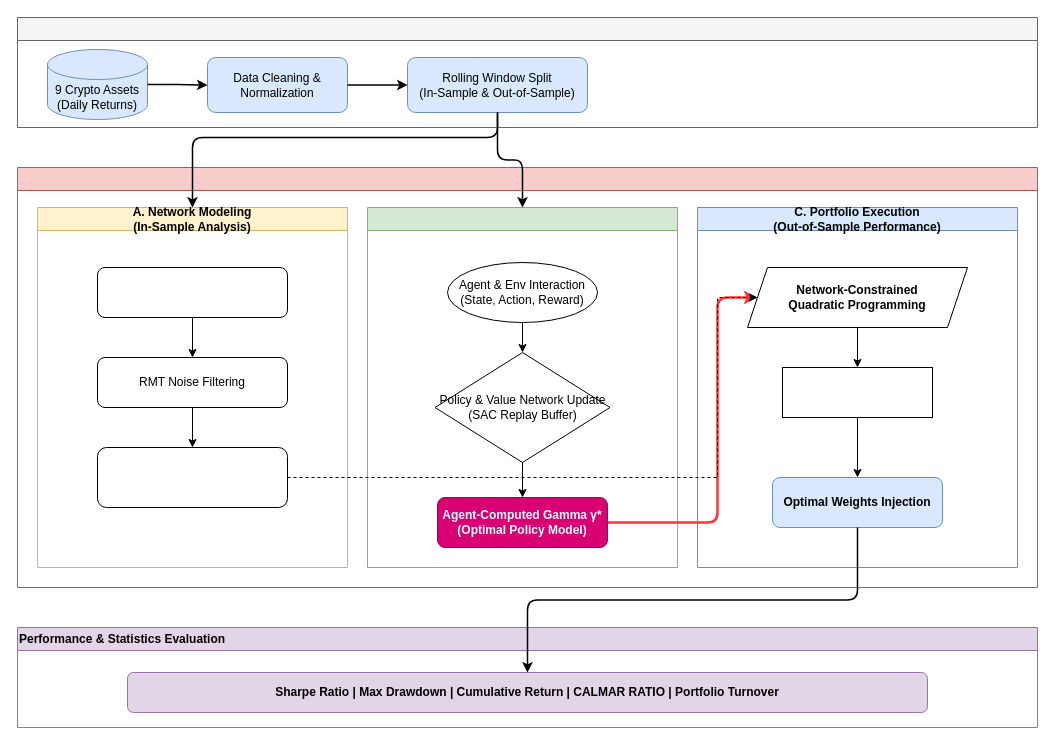
This 1055x745 diagram has some shape labels left out. The box of each missing label's shape, as (x1, y1, x2, y2) in pixels:
B. DRL-Based Policy Optimization (Soft Actor-Critic): (366, 206, 678, 568)
Constraints: Σw = 1 , w > 0: (782, 366, 932, 418)
Data Layer & Preprocessing: (16, 16, 1038, 128)
Empirical Correlation Matrix: (96, 266, 288, 318)
MST Topology Map (Minimum Spanning Tree): (96, 446, 288, 508)
Network Markowitz Operasional (Iteratif Per Window): (16, 166, 1038, 588)
